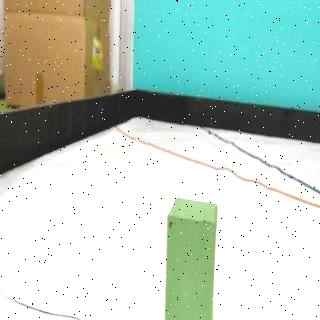greenbox: (166, 195, 218, 320)
